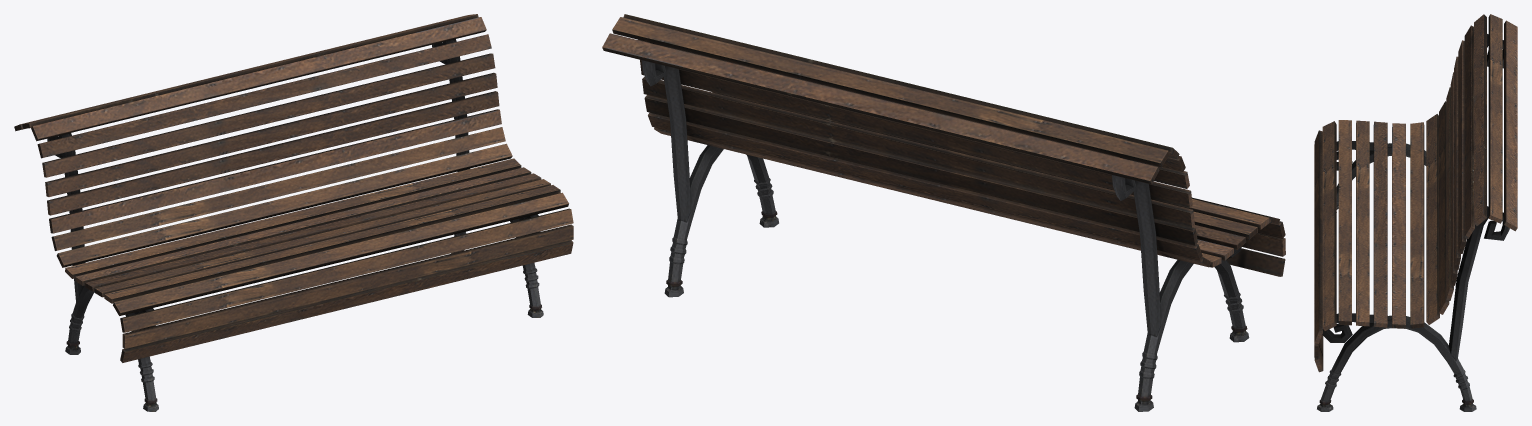
Rendered from banca.obj.
3 views of the same model, side by side, from view 1: azimuth 30°, elevation 25°; view 2: azimuth 150°, elevation 25°; view 3: azimuth 270°, elevation 25° (orthographic). The views are drawn at different scales.
Visible parts, largest first — view 1: bench; view 2: bench; view 3: bench.
Boxes of the visible parts, x1,y1,x2,y2 form: bench: [14, 14, 573, 411]; bench: [602, 14, 1285, 411]; bench: [1314, 14, 1517, 411].
Bounding box in the file's own units: 1.75 × 0.8468 × 0.7486.
